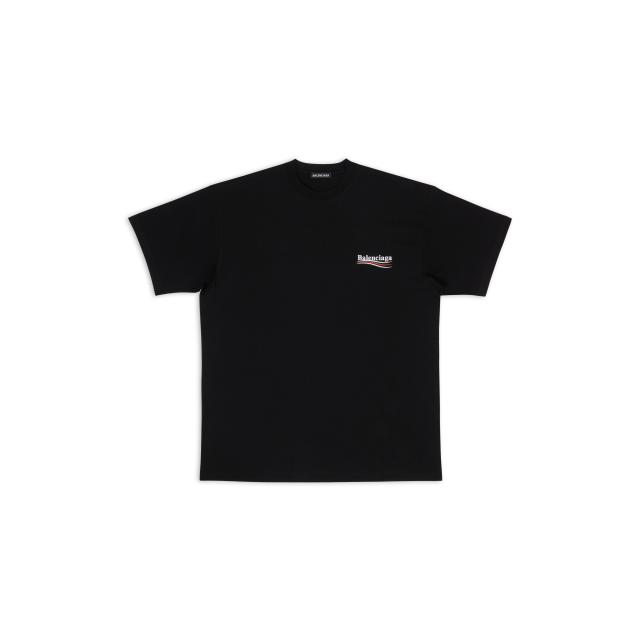shirt: (128, 159, 514, 481)
